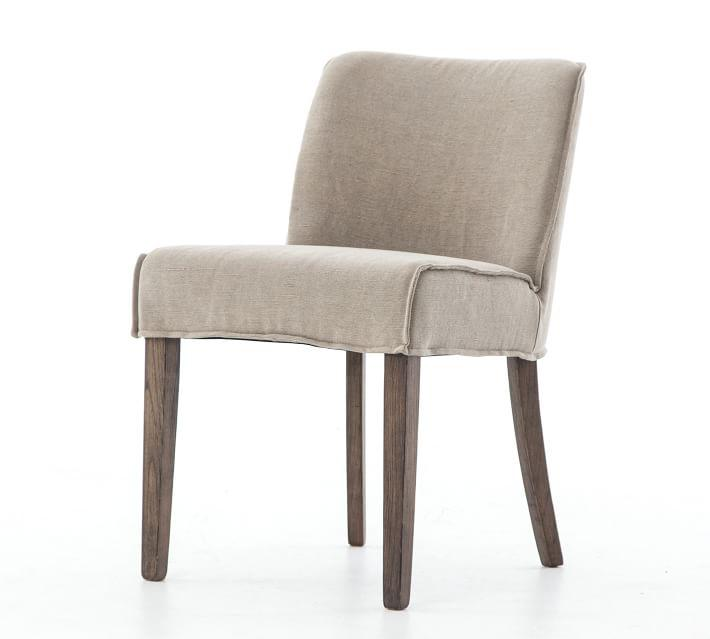chair: (119, 44, 594, 624)
